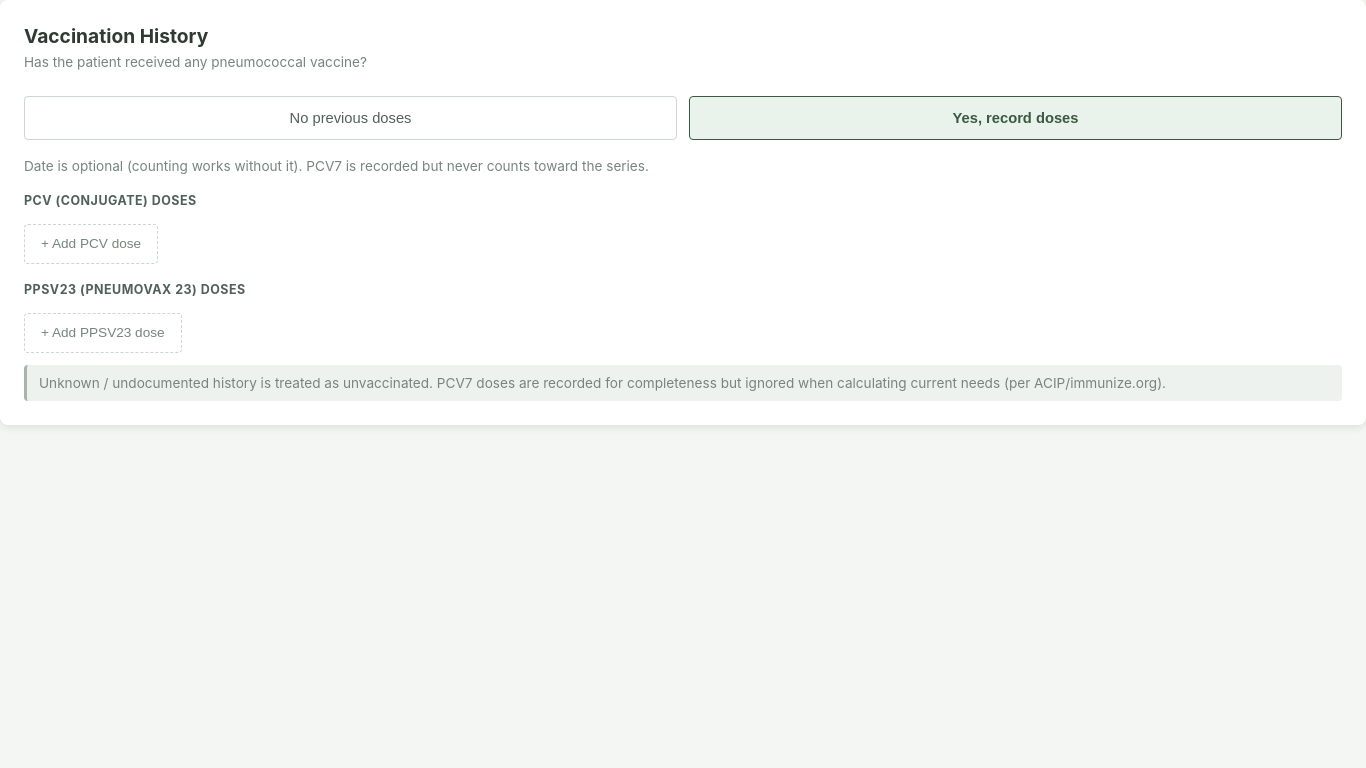
Test: P1-3 UI — the history step › the tick disappears once the row says anything
Click the button "+ Add PCV dose" at (91, 244), box [24,224,158,264]
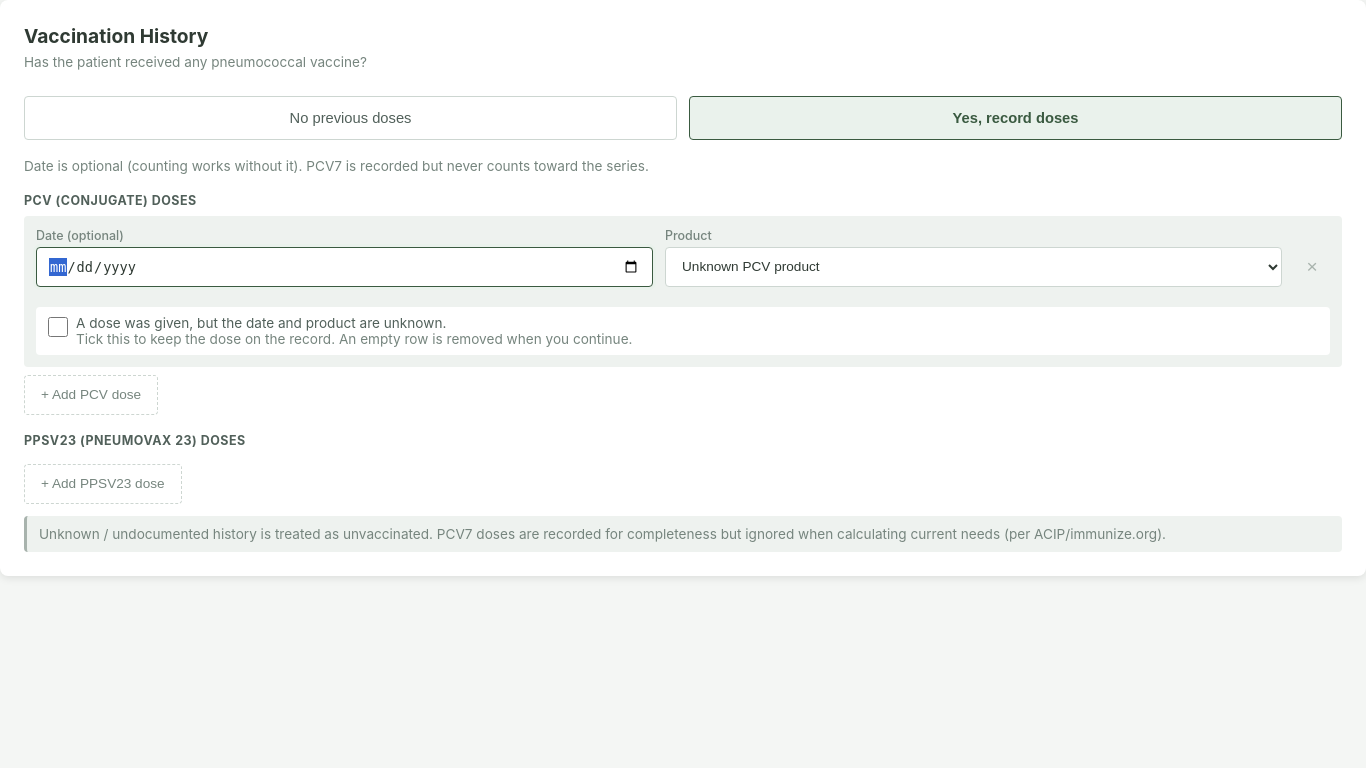
Type "2025-03-01" into the date field labelled "Date (optional)" at (344, 267), box [36,247,653,287]
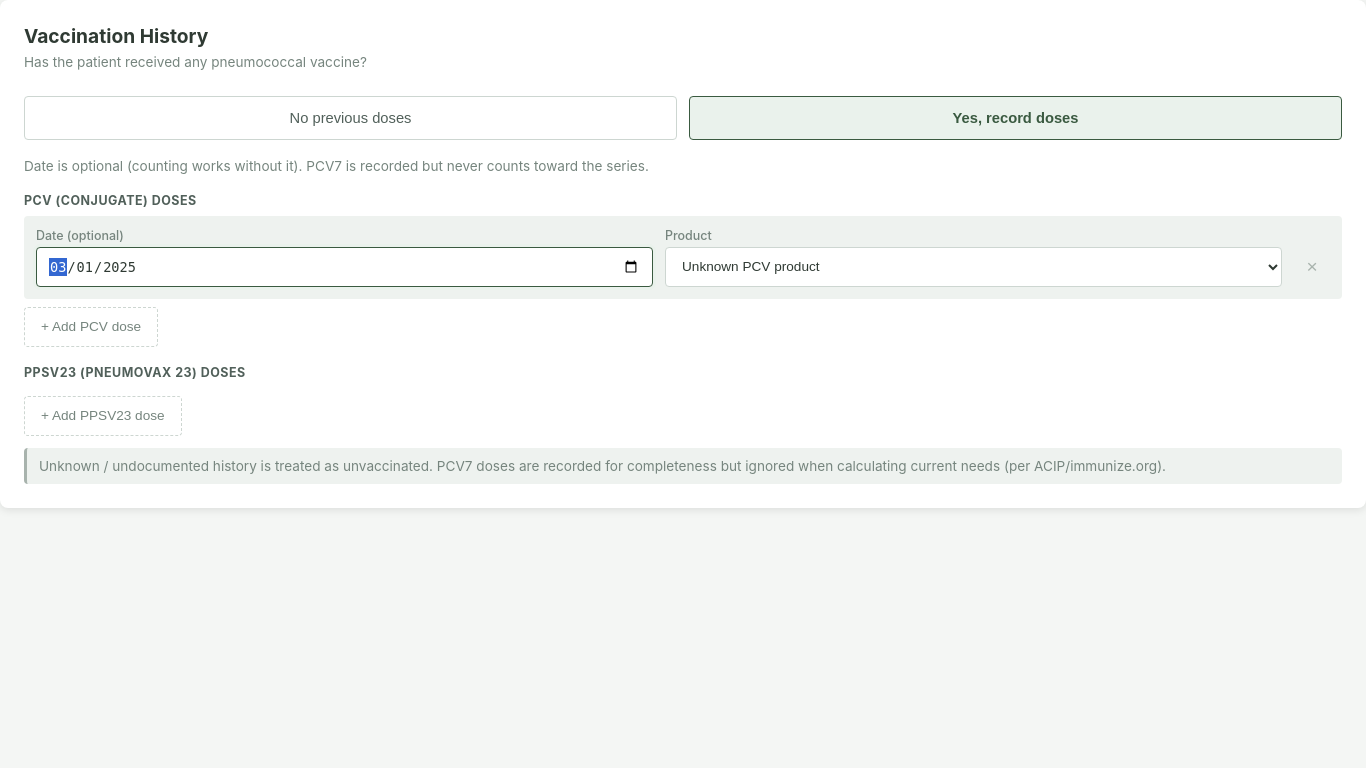
Expected: no checkboxes labelled "A dose was given, but the date and product are unknown" are shown
